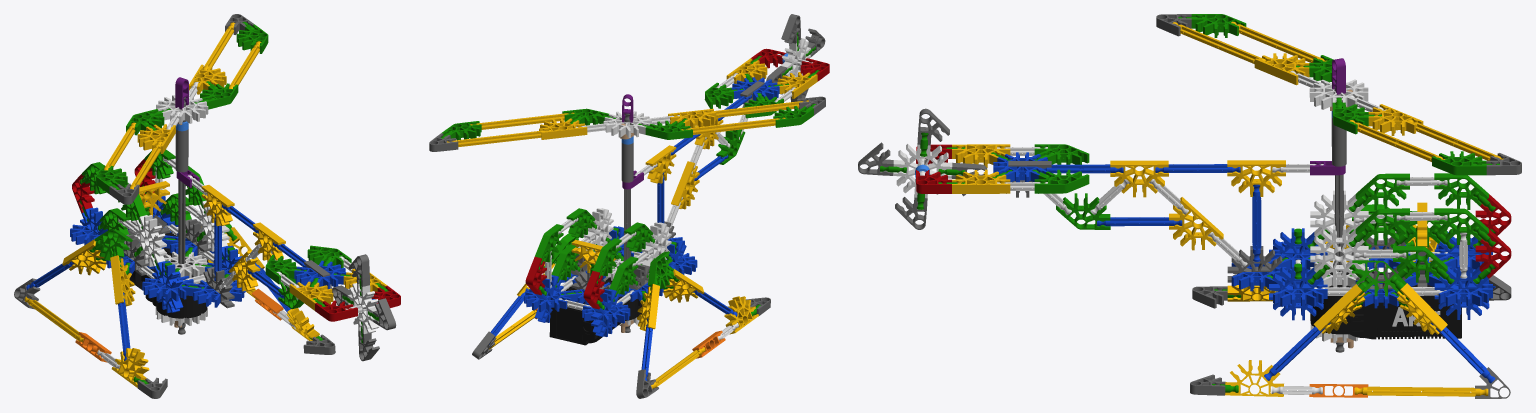
The picture shows the model from 3 angles, left to right: view 1: azimuth 30°, elevation 25°; view 2: azimuth 150°, elevation 25°; view 3: azimuth 270°, elevation 25°; orthographic projection. The views are drawn at different scales.
Parts seen in each view (by area): view 1: xP4_L20.005, xP4_L20.002, xP4_L20.003, xP4_L20.004, xP4_L20.001, xP4_L20.006, xP4_L20.011, xP4_L20.010, xP4_L20.008; view 2: xP4_L20.005, xP4_L20.002, xP4_L20.003, xP4_L20.001, xP4_L20.004, xP4_L20.006, xP4_L20.011, xP4_L20.008, xP4_L20.010; view 3: xP4_L20.005, xP4_L20.002, xP4_L20.003, xP4_L20.001, xP4_L20.004, xP4_L20.011, xP4_L20.006, xP4_L20.008.
Part boxes in pixels (left/top/right/bottom): xP4_L20.005: left=24, top=22, right=386, bottom=387; xP4_L20.002: left=79, top=21, right=388, bottom=384; xP4_L20.003: left=26, top=196, right=346, bottom=360; xP4_L20.004: left=14, top=14, right=396, bottom=398; xP4_L20.001: left=97, top=82, right=378, bottom=369; xP4_L20.006: left=72, top=159, right=400, bottom=321; xP4_L20.011: left=129, top=232, right=208, bottom=318; xP4_L20.010: left=75, top=288, right=283, bottom=362; xP4_L20.008: left=175, top=77, right=199, bottom=187; xP4_L20.005: left=447, top=58, right=817, bottom=388; xP4_L20.002: left=440, top=32, right=819, bottom=316; xP4_L20.003: left=489, top=77, right=779, bottom=380; xP4_L20.001: left=545, top=38, right=812, bottom=340; xP4_L20.004: left=429, top=14, right=825, bottom=398; xP4_L20.006: left=525, top=48, right=829, bottom=309; xP4_L20.011: left=549, top=265, right=642, bottom=345; xP4_L20.008: left=622, top=94, right=643, bottom=189; xP4_L20.010: left=535, top=308, right=725, bottom=358; xP4_L20.005: left=952, top=21, right=1503, bottom=396; xP4_L20.002: left=880, top=14, right=1499, bottom=392; xP4_L20.003: left=993, top=152, right=1495, bottom=383; xP4_L20.001: left=893, top=70, right=1467, bottom=394; xP4_L20.004: left=858, top=14, right=1521, bottom=398; xP4_L20.011: left=1310, top=271, right=1461, bottom=339; xP4_L20.006: left=916, top=144, right=1511, bottom=278; xP4_L20.008: left=1310, top=58, right=1345, bottom=175.
Size of the model in its own units: 3.2 by 2.84 by 5.86.
